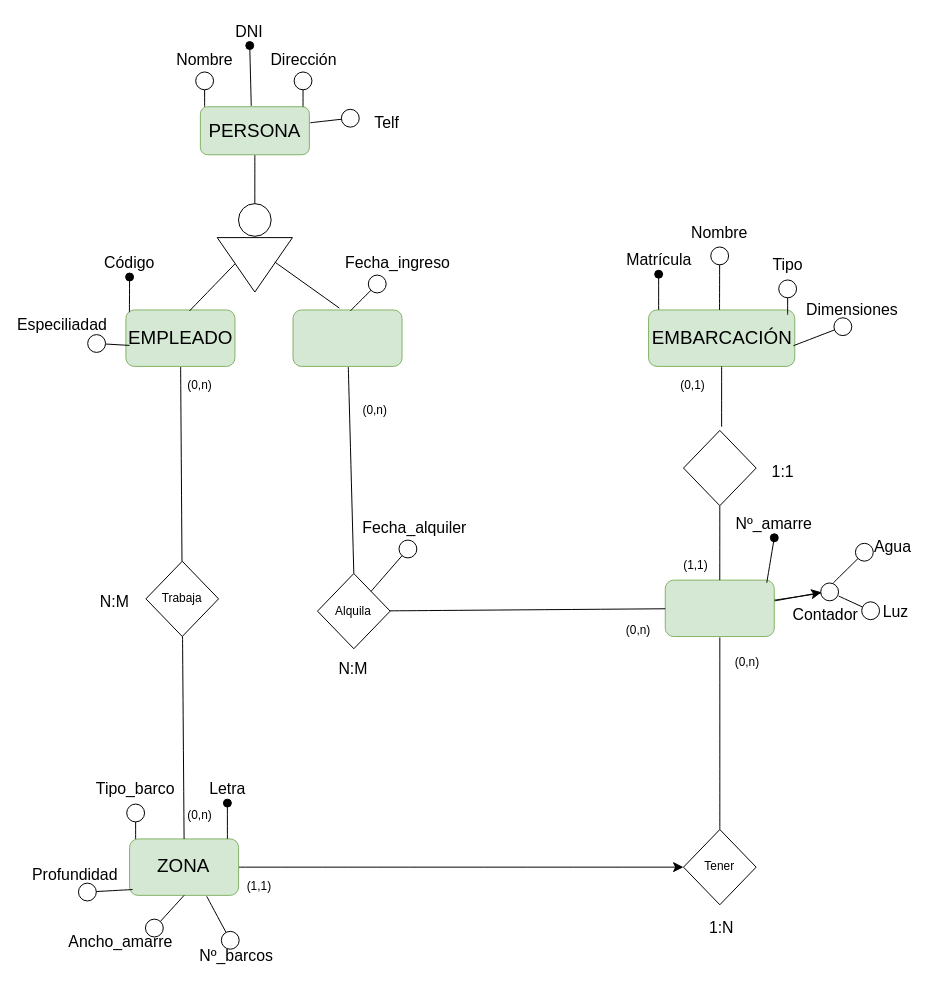
Some shapes in this 940 by 986 pixel diagram are drawn without their labels. Each missing label, with the centre of its shape:
AMARRE: the point at 719,608
Ocupar: the point at 719,467
SOCIO: the point at 347,337
